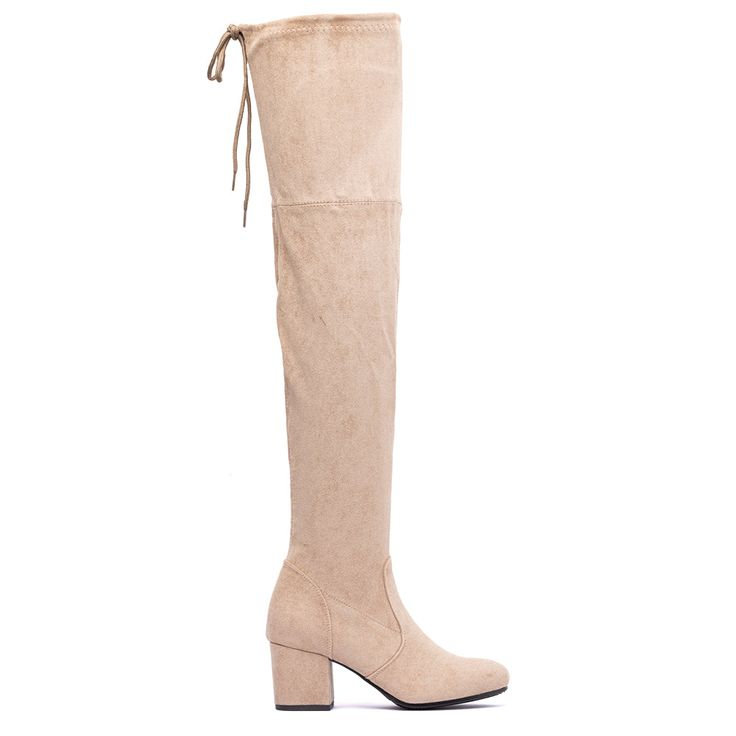gamuza: (232, 12, 512, 710)
